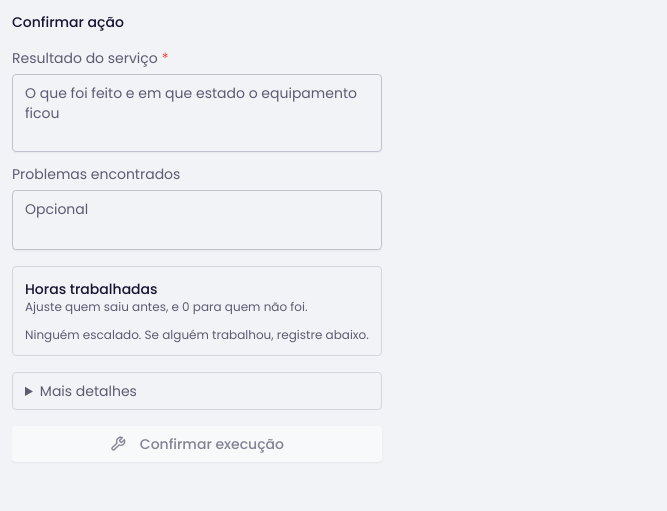
Scenario: ActionConfirmPanel — dados de falha › na preventiva, tudo opcional em "Mais detalhes", sem puxar a anomalia; a parada vai inteira, com o aviso à vista
The width and height of the screenshot is (667, 511).
Check: the element named "O equipamento parou em" is empty, box [12,372,382,410]
Step 1. Type "ok" into the text box labelled "Resultado do serviço*" → coordinates (197, 113), box [12,74,382,152]
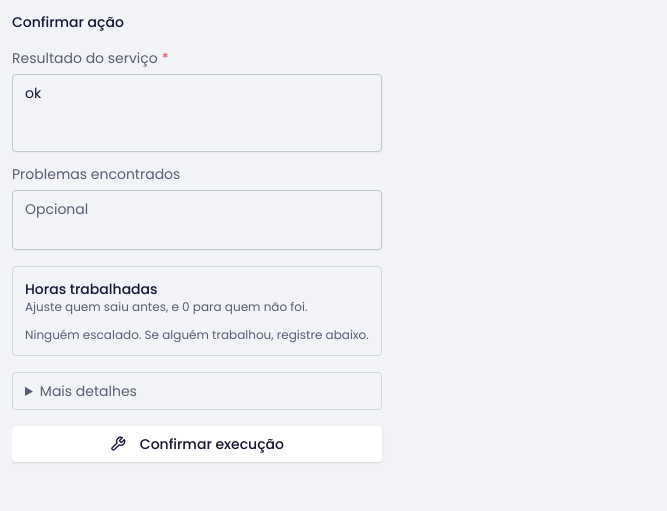
Check: the button "Confirmar execução" is enabled, box [12,426,382,462]
Step 2. Replace the text in the field named "O equipamento parou em" with "2026-10-16T08:20" → coordinates (197, 391), box [12,372,382,410]
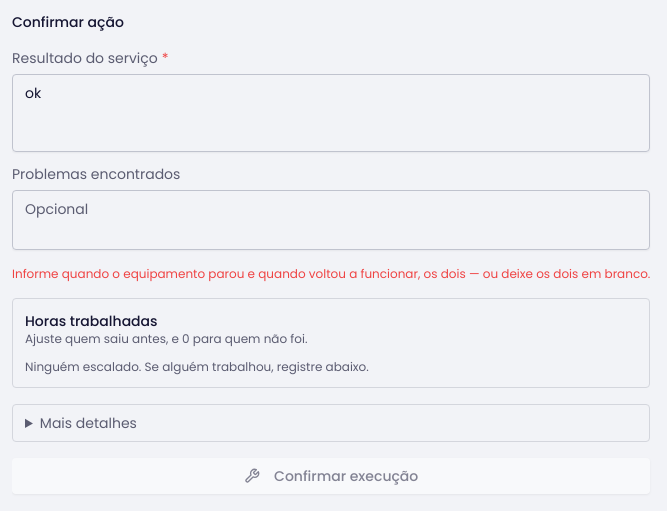
Check: the button "Confirmar execução" is disabled, box [12,458,650,494]
Check: the message shows "os dois", box [12,265,650,282]
